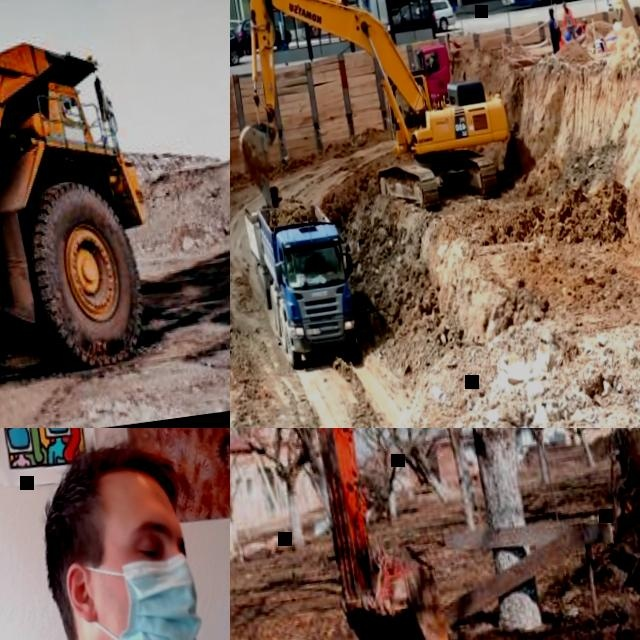Hardhat: (561, 0, 567, 6), (583, 17, 588, 23), (612, 17, 617, 22)
Mask: (62, 546, 207, 640)
NO-Hardhat: (33, 439, 179, 543), (548, 7, 554, 14)
NO-Safety Vest: (548, 19, 560, 43)
Person: (0, 430, 230, 640), (546, 6, 565, 52), (560, 0, 578, 40), (609, 0, 627, 21), (573, 17, 588, 36), (286, 256, 299, 275), (557, 27, 566, 47), (611, 16, 622, 30)
Safety Vest: (562, 7, 575, 29), (576, 22, 585, 35), (612, 20, 622, 30), (611, 0, 623, 8), (287, 260, 294, 273), (558, 36, 565, 46)
machinery: (0, 0, 181, 428), (230, 0, 520, 237), (230, 428, 471, 640), (240, 176, 369, 374), (409, 41, 456, 105)
vehicle: (235, 12, 293, 56), (382, 0, 439, 44), (414, 0, 458, 34), (230, 23, 246, 72)
